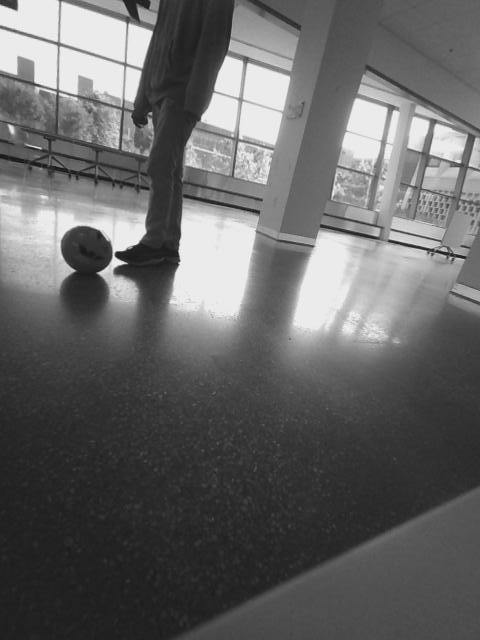ball: (59, 225, 115, 274)
